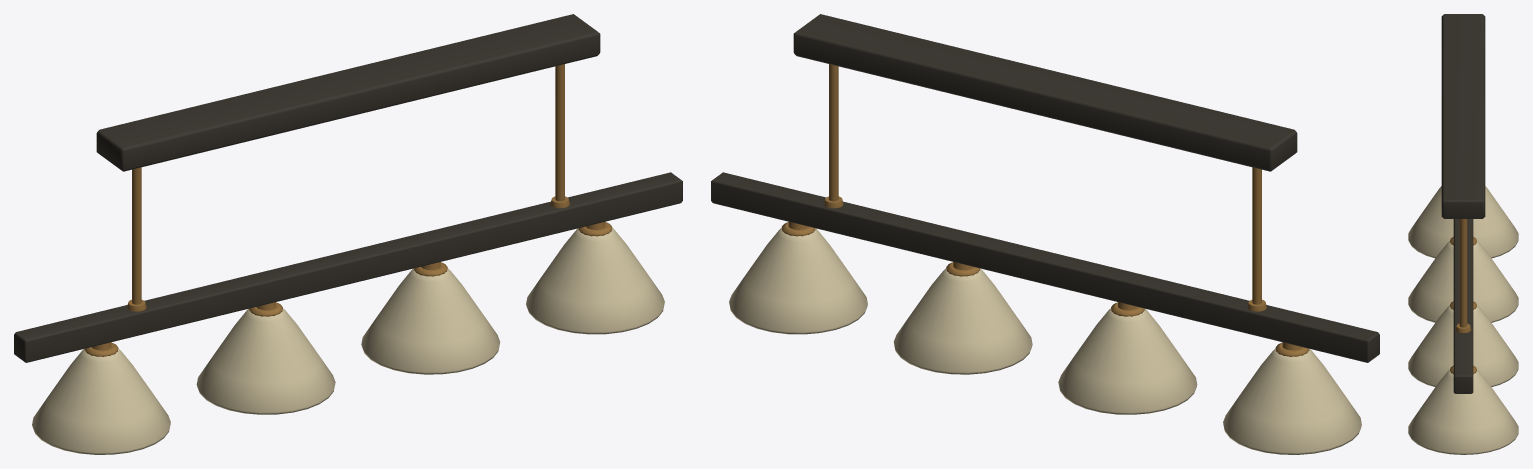
Rendered from rpg-mansion-linear-four-light-pendant-01.glb.
3 views of the same model, side by side, from view 1: azimuth 30°, elevation 25°; view 2: azimuth 150°, elevation 25°; view 3: azimuth 270°, elevation 25° (orthographic). The views are drawn at different scales.
Visible parts, largest first — view 1: rpg-mansion-linear-four-light-pendant-01; view 2: rpg-mansion-linear-four-light-pendant-01; view 3: rpg-mansion-linear-four-light-pendant-01.
Part boxes in pixels (x1,y1,x2,y2): rpg-mansion-linear-four-light-pendant-01: (14, 14, 682, 454); rpg-mansion-linear-four-light-pendant-01: (711, 14, 1379, 454); rpg-mansion-linear-four-light-pendant-01: (1408, 14, 1518, 454).
Bounding box in the file's own units: 1.4 × 0.6 × 0.2541.
